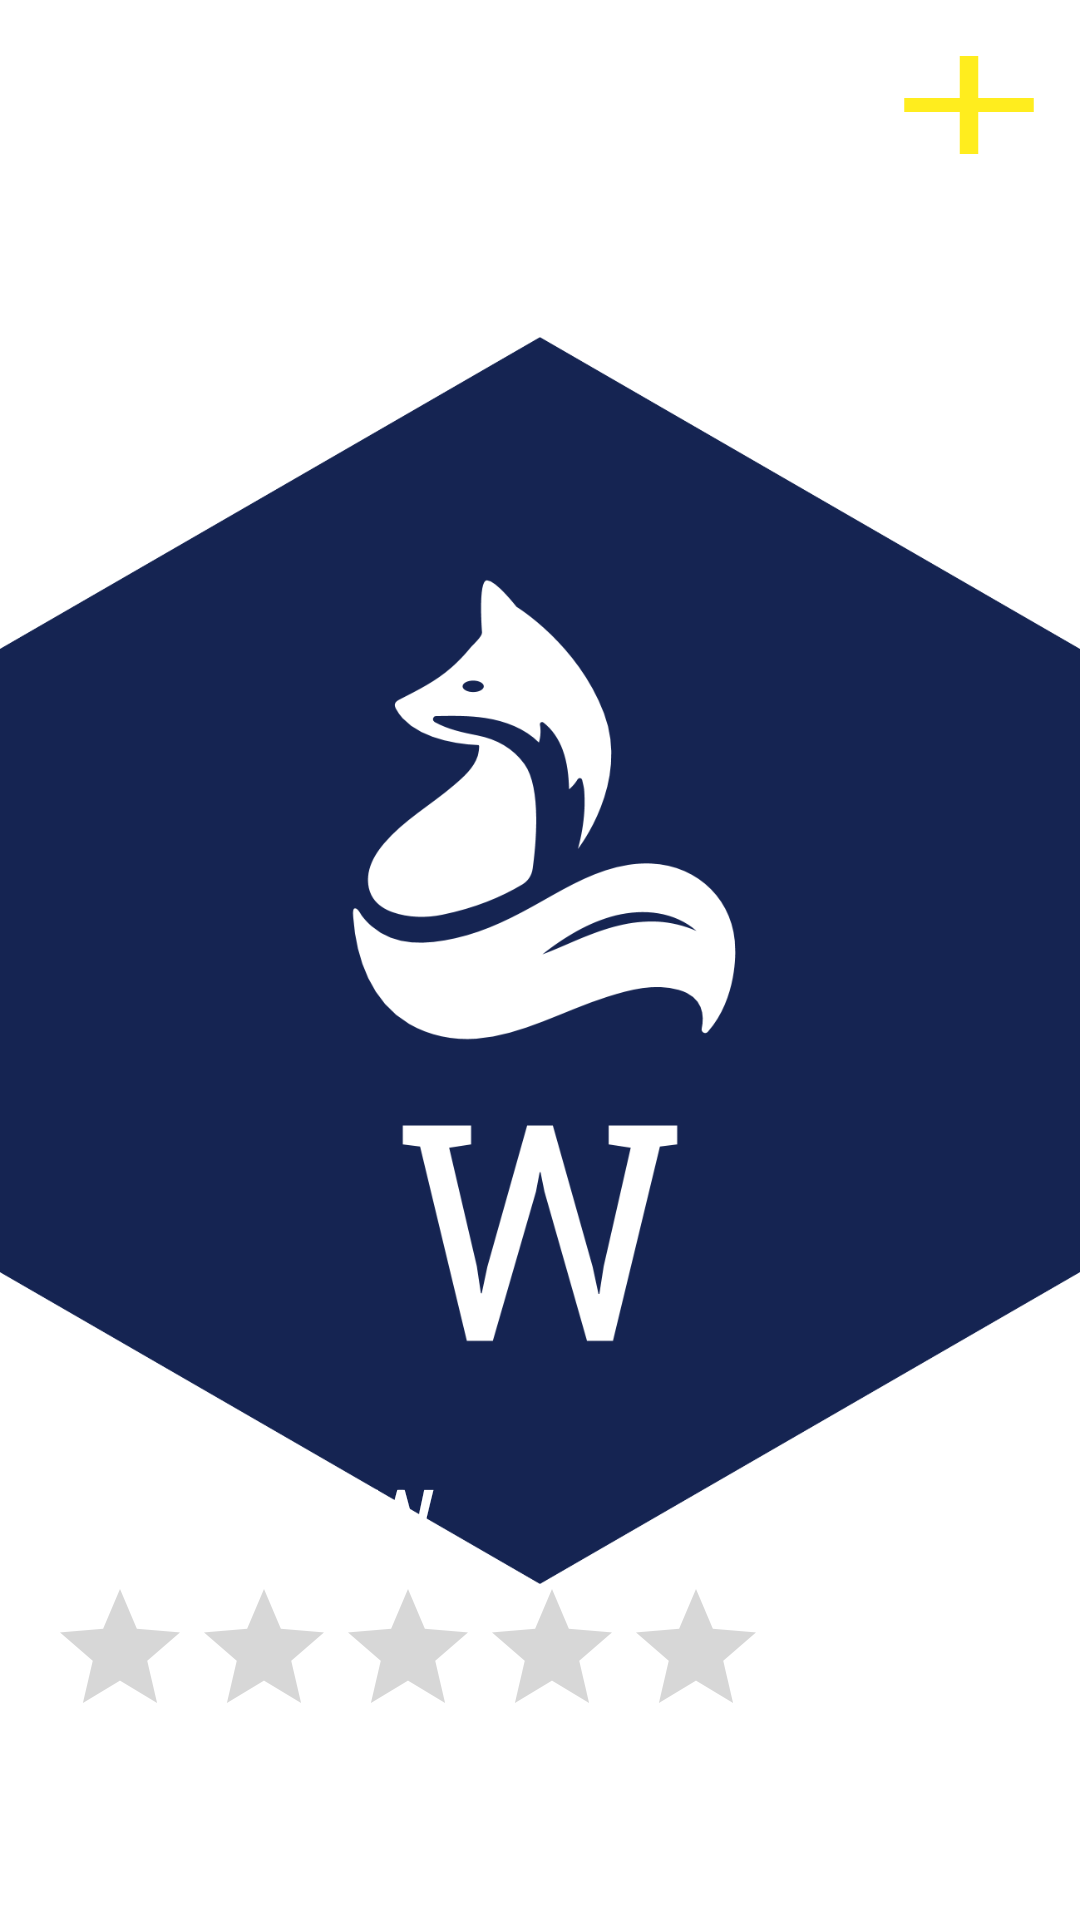

Named icons in this screenshot (1080px x 1920px) and their bounding boxes, (left=x1, top=y1, right=x2, bottom=y2):
add: (left=904, top=56, right=1034, bottom=154)
